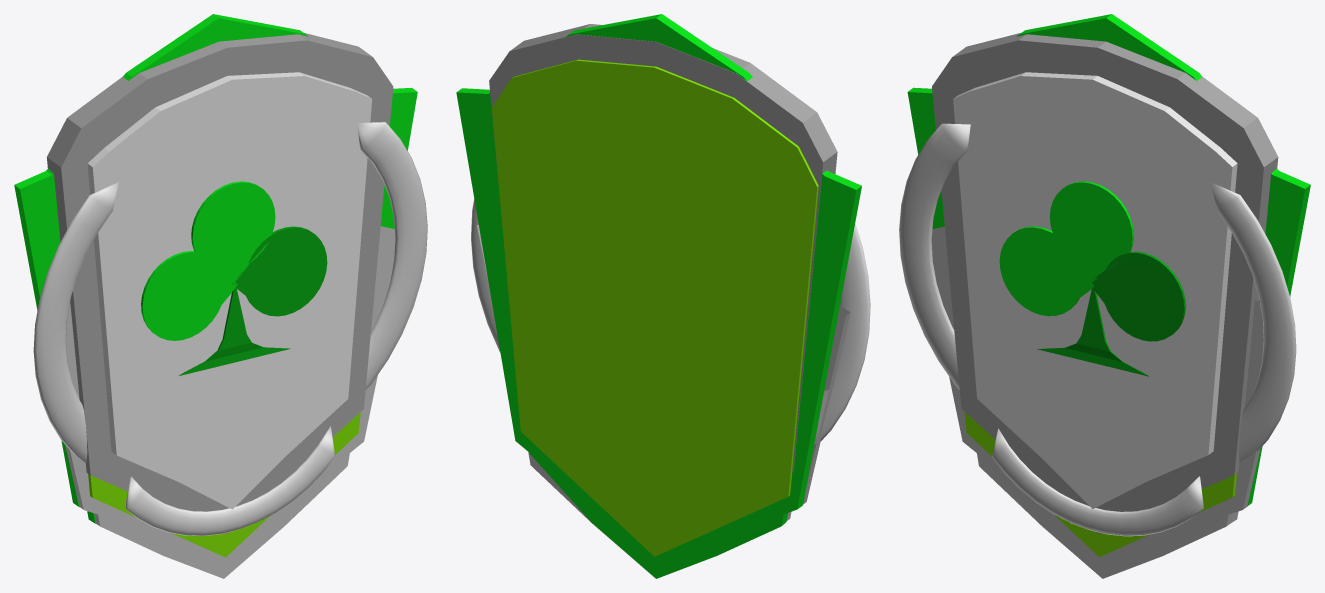
Rendered from Shield_Black_3.fbx.
The picture shows the model from 3 angles, left to right: view 1: azimuth 30°, elevation 25°; view 2: azimuth 150°, elevation 25°; view 3: azimuth 330°, elevation 25°; orthographic projection.
Visible parts, largest first — view 1: Cube.012, Cube.015, Torus, Cube.011, Cube.014, Cylinder.008, Cylinder.007, Torus.001, Cylinder.006, Cube.010, Cube.013; view 2: Cube.010, Cube.014, Cube.015, Torus, Cube.011; view 3: Cube.012, Cube.015, Torus, Cube.011, Cube.014, Cylinder.007, Cylinder.008, Torus.001, Cylinder.006, Cube.010, Cube.013.
Part boxes in pixels (x1,y1,x2,y2): Cube.012: [87, 72, 372, 509]; Cube.015: [46, 33, 393, 534]; Torus: [33, 122, 427, 463]; Cube.011: [65, 226, 395, 578]; Cube.014: [14, 14, 417, 524]; Cylinder.008: [141, 251, 237, 340]; Cylinder.007: [232, 226, 327, 316]; Torus.001: [125, 426, 335, 535]; Cylinder.006: [191, 181, 275, 282]; Cube.010: [88, 412, 360, 557]; Cube.013: [178, 287, 290, 376]; Cube.010: [492, 59, 818, 556]; Cube.014: [456, 14, 861, 578]; Cube.015: [489, 24, 837, 472]; Torus: [471, 199, 870, 449]; Cube.011: [477, 224, 850, 578]; Cube.012: [953, 72, 1237, 508]; Cube.015: [932, 32, 1278, 533]; Torus: [899, 123, 1296, 461]; Cube.011: [931, 226, 1263, 578]; Cube.014: [907, 14, 1310, 505]; Cylinder.007: [1092, 251, 1185, 341]; Cylinder.008: [999, 226, 1094, 316]; Torus.001: [992, 428, 1203, 536]; Cylinder.006: [1049, 181, 1133, 282]; Cube.010: [964, 412, 1236, 557]; Cube.013: [1037, 288, 1149, 376].
Size of the model in its own units: 614 by 822 by 73.82.
